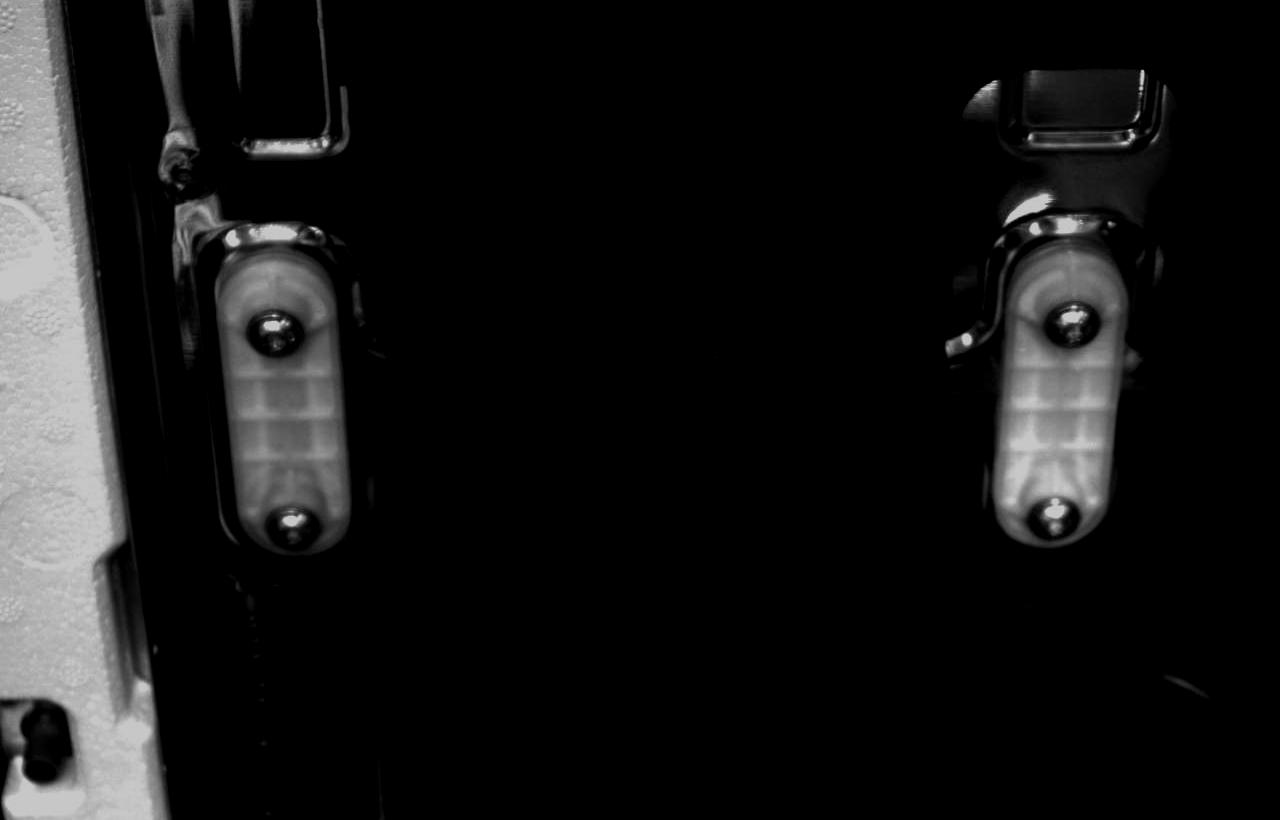vida-ok: (240, 301, 311, 368), (1033, 292, 1100, 359), (1021, 477, 1087, 545), (260, 498, 326, 557)
